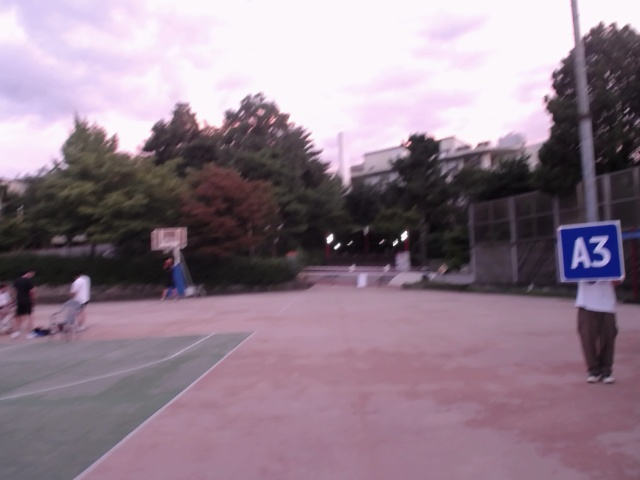delivery_a3: (555, 221, 623, 281)
